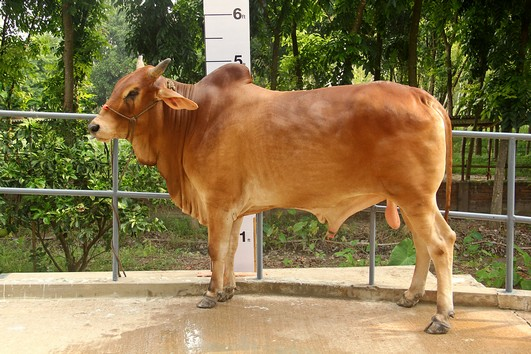cow: (82, 44, 462, 338)
